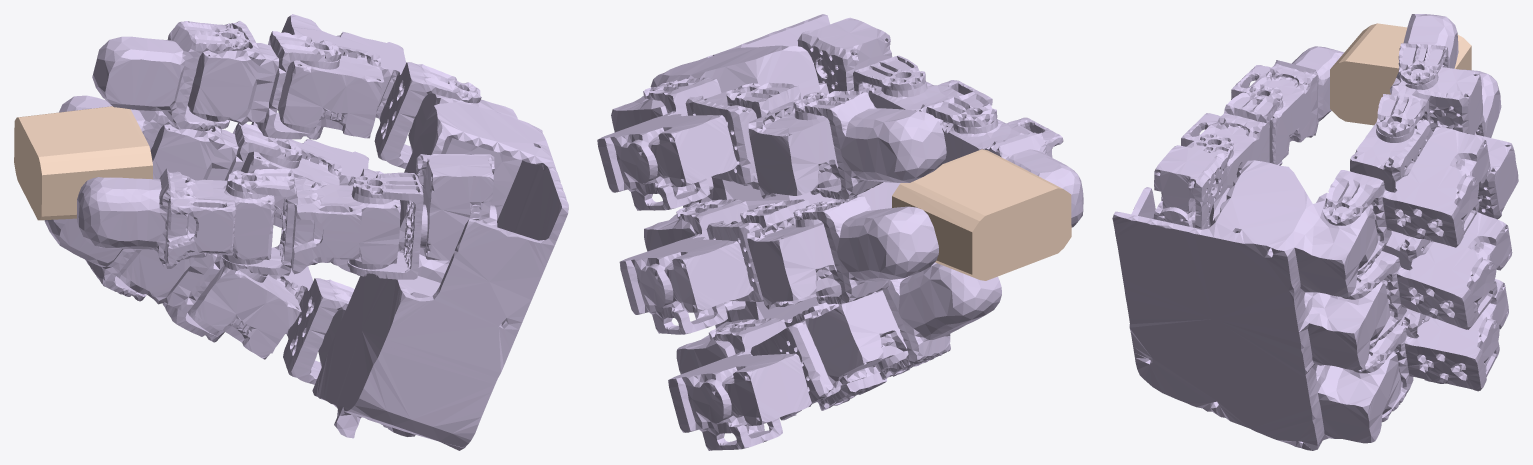
The picture shows the model from 3 angles, left to right: view 1: azimuth 30°, elevation 25°; view 2: azimuth 150°, elevation 25°; view 3: azimuth 270°, elevation 25°; orthographic projection. The views are drawn at different scales.
Parts seen in each view (by area): view 1: LEAP_hand, world; view 2: LEAP_hand, world; view 3: LEAP_hand, world.
Part boxes in pixels (left/top/right/bottom): LEAP_hand: left=44, top=14, right=568, bottom=450; world: left=14, top=106, right=152, bottom=220; LEAP_hand: left=597, top=14, right=1083, bottom=450; world: left=892, top=149, right=1071, bottom=280; LEAP_hand: left=1112, top=14, right=1518, bottom=450; world: left=1330, top=23, right=1471, bottom=125.
Size of the model in its own units: 0.1959 by 0.1572 by 0.1711.
